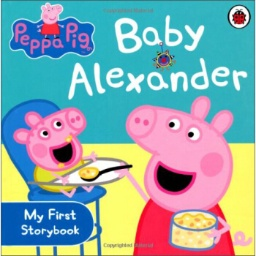Peppa: (114, 95, 253, 256)
